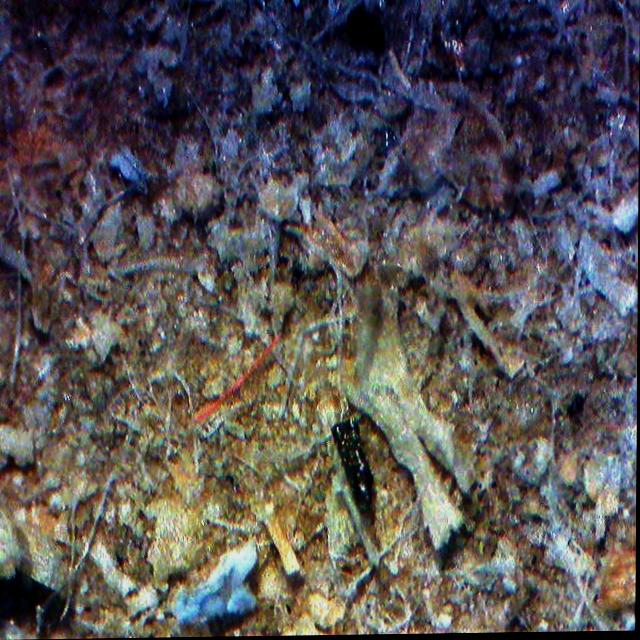microplastic: (196, 338, 283, 425)
